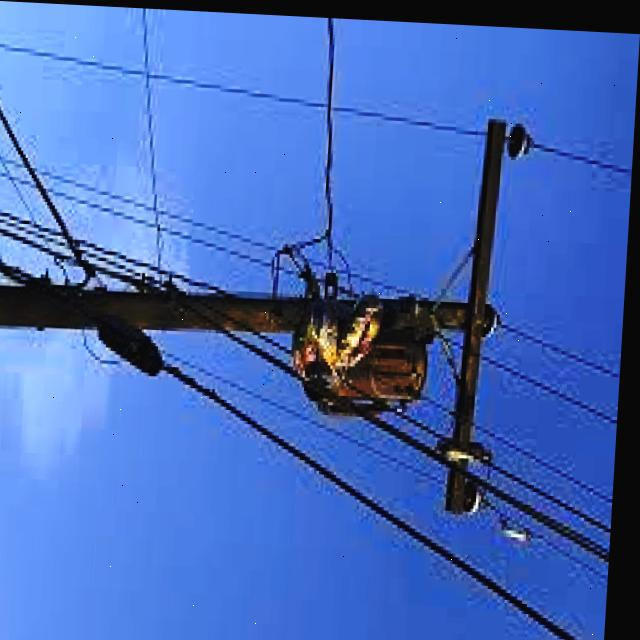obstruction: (300, 294, 389, 397)
poles: (0, 13, 487, 296), (167, 354, 604, 640), (351, 116, 533, 505), (370, 408, 617, 554), (0, 279, 323, 326), (485, 420, 618, 498), (489, 341, 622, 415)
